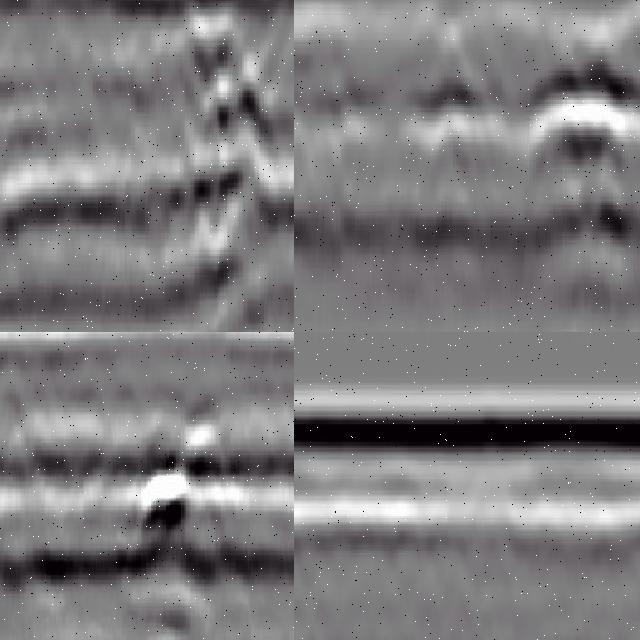loose: (389, 32, 640, 280), (1, 395, 242, 593), (117, 1, 295, 269)
